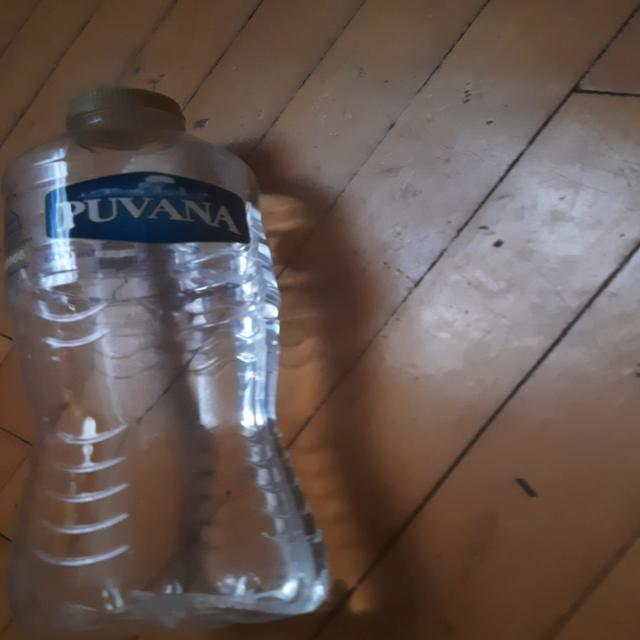Plastic: (0, 88, 335, 640)
